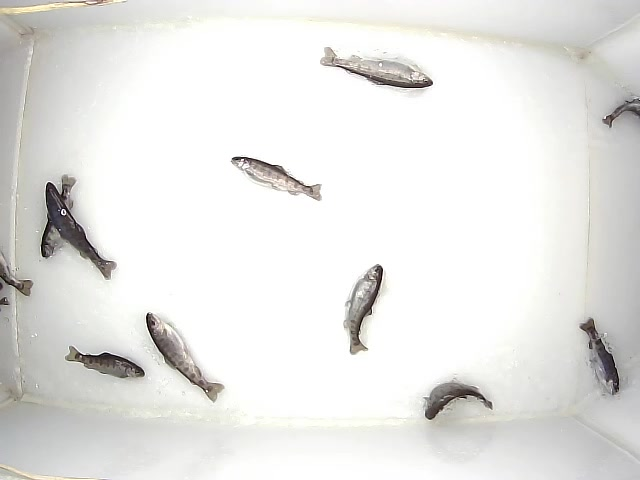fish: (146, 312, 225, 403), (46, 182, 117, 280), (320, 47, 433, 88), (231, 157, 322, 201), (343, 264, 383, 355), (579, 317, 619, 396), (41, 174, 76, 259), (423, 378, 493, 420), (65, 345, 146, 378), (1, 251, 34, 297), (602, 98, 640, 128)
